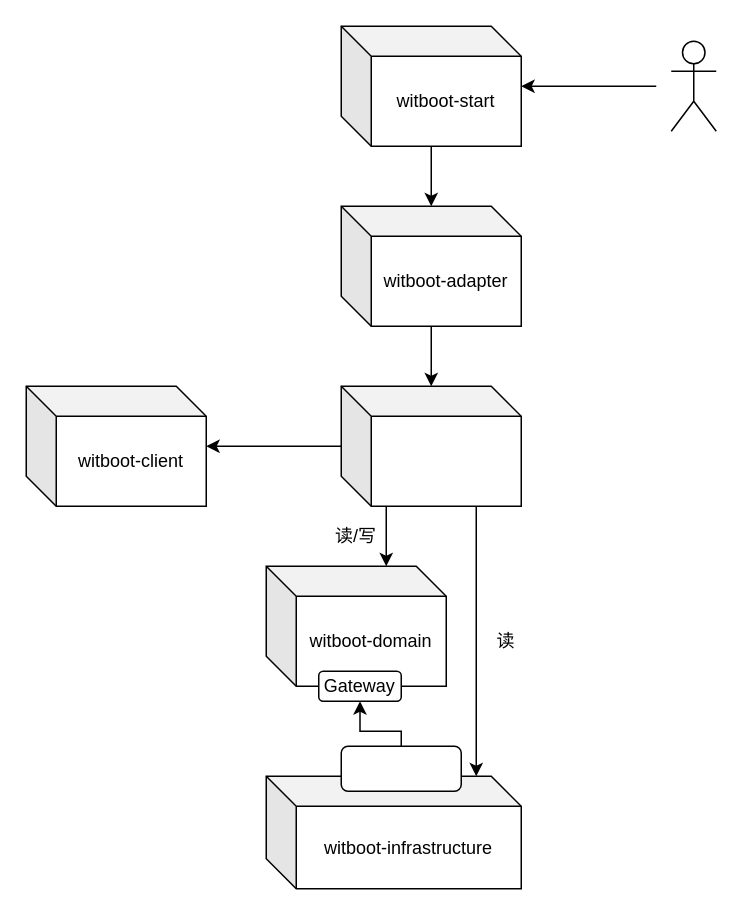
Image size: 743x915. Some labels were removed from this diagram. Each missing label, with the centre of its shape:
Actor: [693,85]
GatewayImpl: [400,768]
witboot-app: [430,445]
